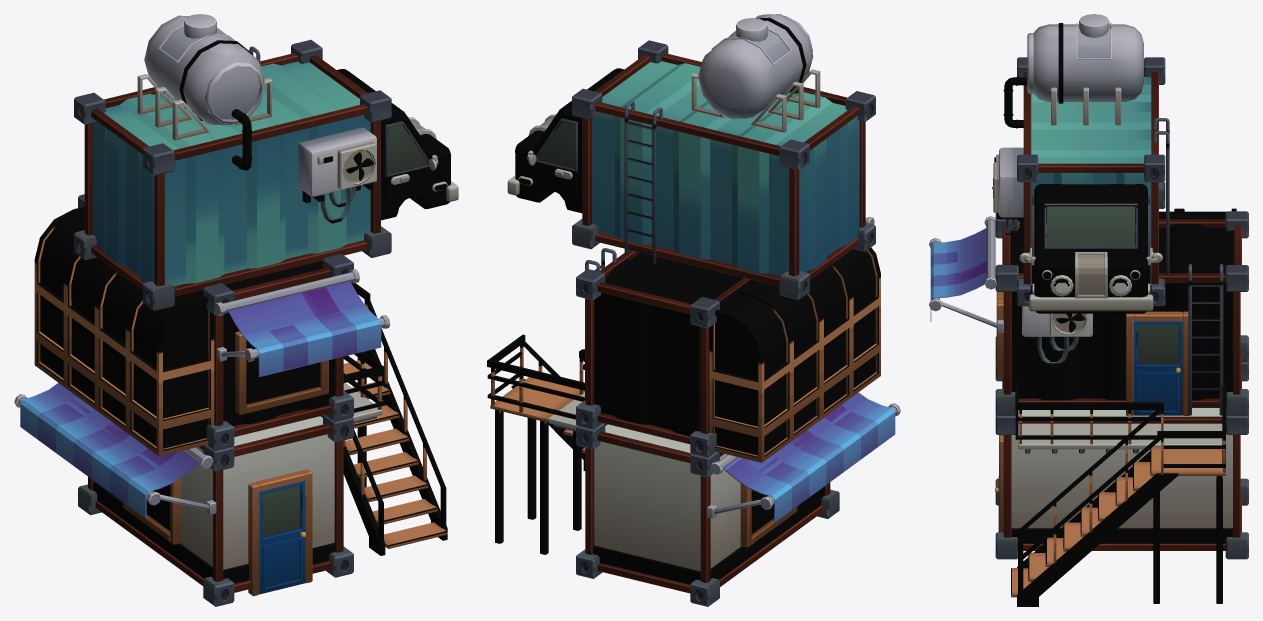
File: house3.fbx
3 renders of one model, left to right at view 1: azimuth 30°, elevation 25°; view 2: azimuth 150°, elevation 25°; view 3: azimuth 270°, elevation 25°, orthographic. The views are drawn at different scales.
Visible parts, largest first — view 1: finb_house_08.001; view 2: finb_house_08.001; view 3: finb_house_08.001.
Boxes of the visible parts, left/top/right/bottom form: finb_house_08.001: left=14, top=14, right=458, bottom=606; finb_house_08.001: left=487, top=14, right=900, bottom=606; finb_house_08.001: left=929, top=14, right=1248, bottom=606.
Bounding box in the file's own units: 689 × 1076 × 630.
1 material, 1 textured.
